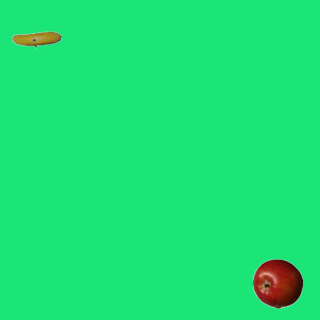Apple Braeburn: (252, 258, 302, 308)
Banana: (11, 14, 61, 64)
